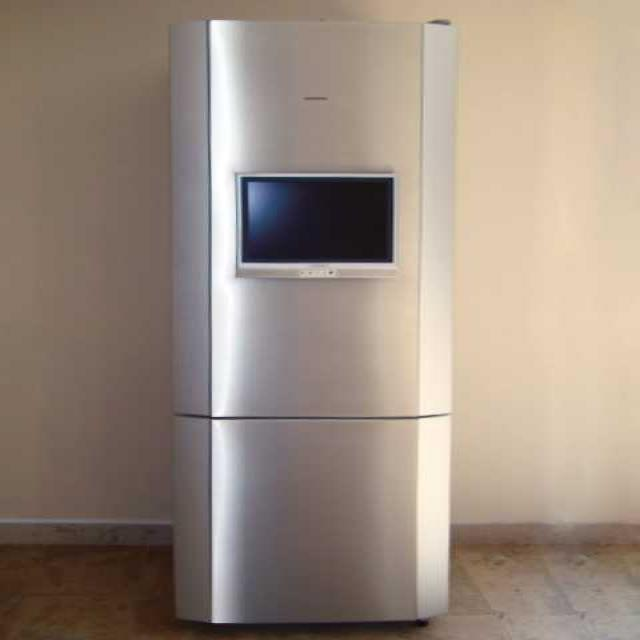refrigerator: (168, 18, 456, 620)
